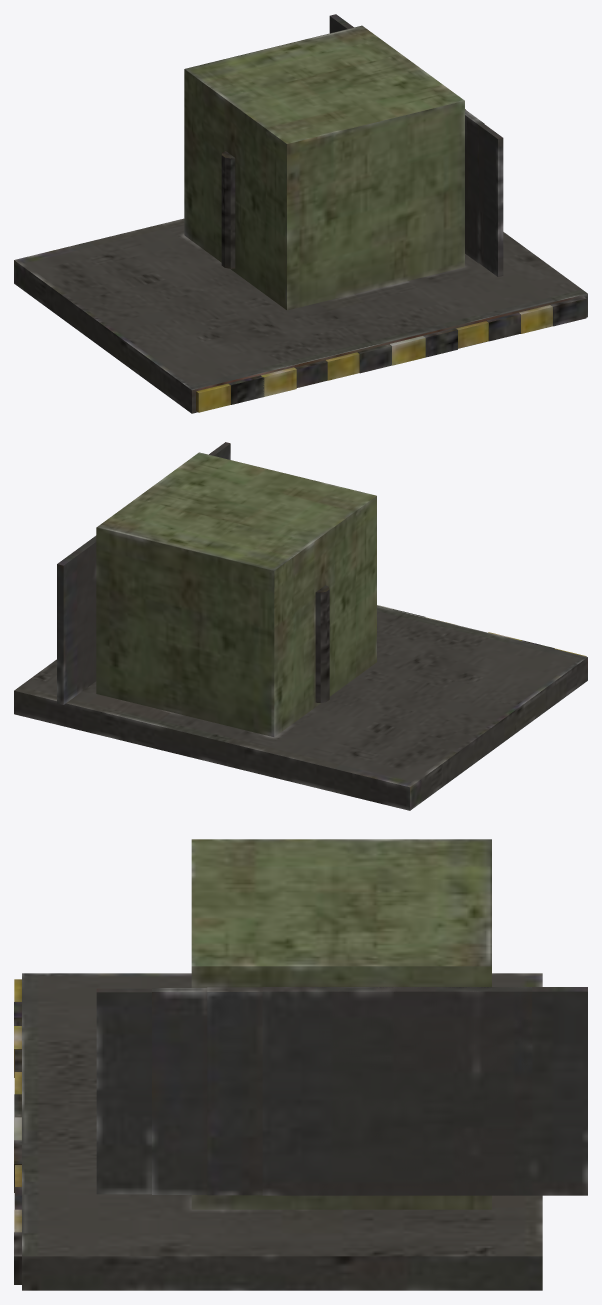
The model's file is feWelder.glb.
3 renders of one model, top to bottom at view 1: azimuth 30°, elevation 25°; view 2: azimuth 150°, elevation 25°; view 3: azimuth 270°, elevation 25°, orthographic. The views are drawn at different scales.
Visible parts, largest first — view 1: feWelder_Base; view 2: feWelder_Base; view 3: feWelder_Base.
Part boxes in pixels (left/top/right/bottom): feWelder_Base: left=14, top=14, right=587, bottom=413; feWelder_Base: left=14, top=442, right=587, bottom=810; feWelder_Base: left=14, top=839, right=587, bottom=1290.
Size of the model in its own units: 0.9012 by 0.413 by 0.773.
1 material, 1 textured.
